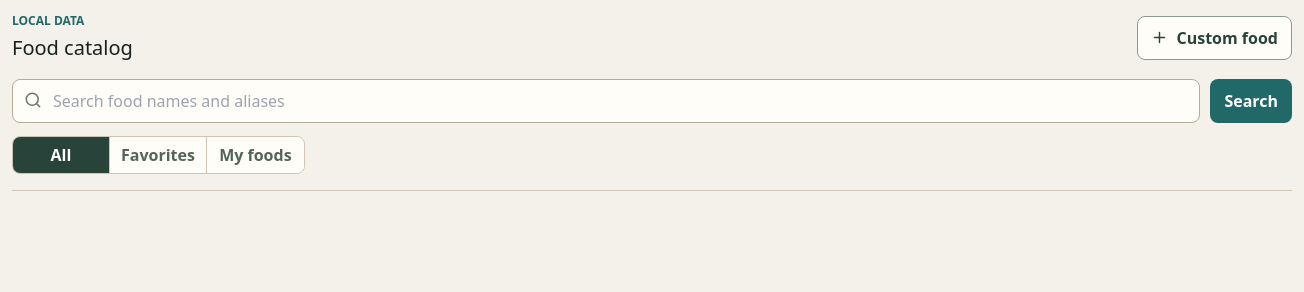
Test: FoodCatalogPane › renders the Mainland name returned for a legacy search term
Type "Cooked rice" into the field named "Search foods" at (606, 101), box x1=12 y1=79 x2=1200 y2=123
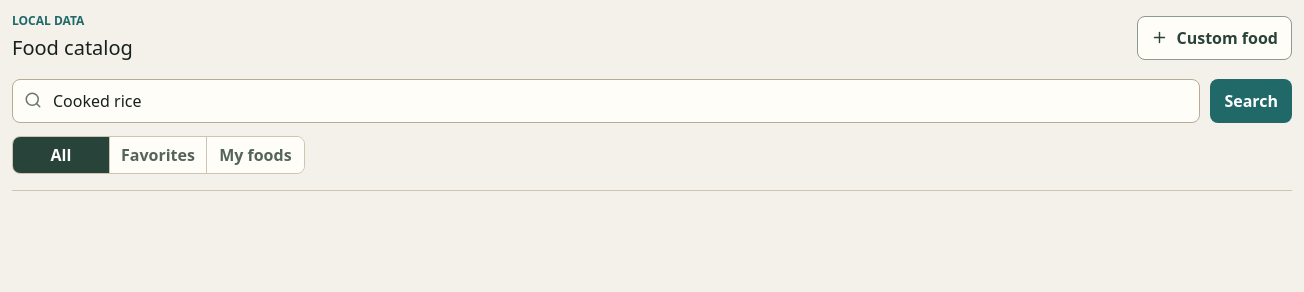
Click the button "Search" at (1251, 101), box x1=1210 y1=79 x2=1292 y2=123
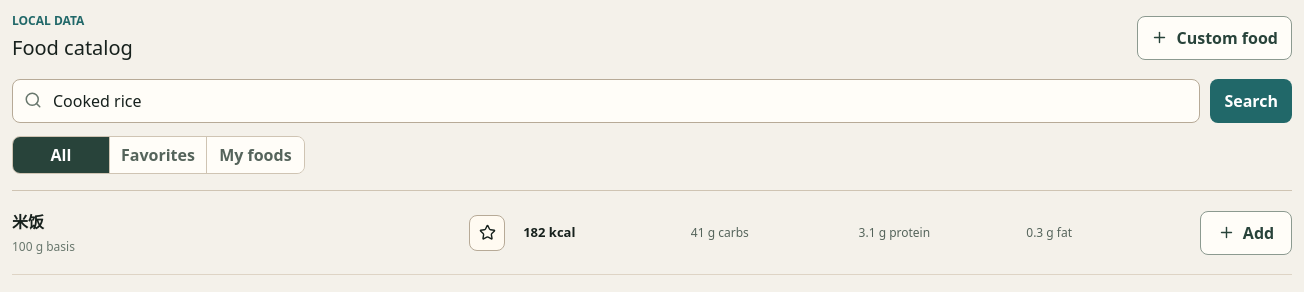
Expected: the text "米饭" is shown, x1=12 y1=210 x2=44 y2=232
